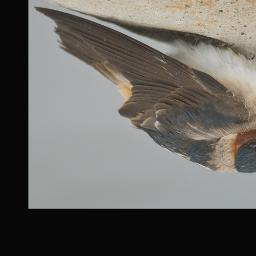Swallow: (32, 5, 256, 174)
